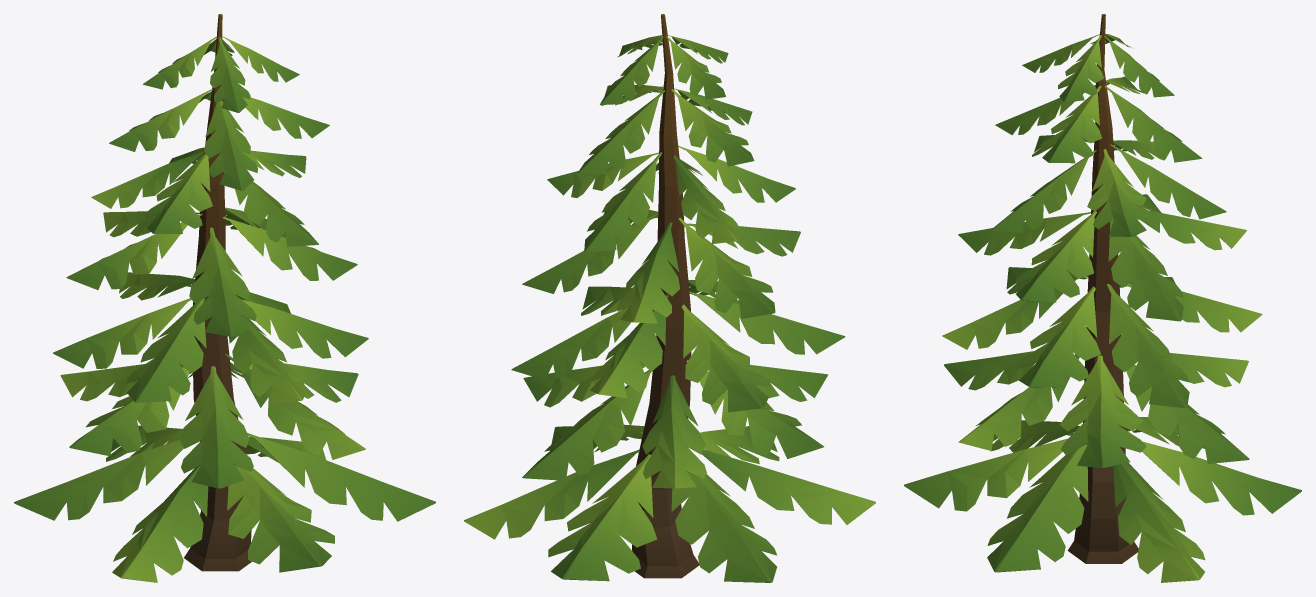
The model's file is Tree_10.fbx.
3 renders of one model, left to right at view 1: azimuth 30°, elevation 25°; view 2: azimuth 150°, elevation 25°; view 3: azimuth 270°, elevation 25°, orthographic. The views are drawn at different scales.
Parts seen in each view (by area): view 1: Tree_10; view 2: Tree_10; view 3: Tree_10.
Part boxes in pixels (x1=…): Tree_10: x1=14, y1=14, x2=435, y2=582; Tree_10: x1=464, y1=14, x2=875, y2=582; Tree_10: x1=904, y1=14, x2=1301, y2=582.
Size of the model in its own units: 3.53 by 5.76 by 3.88.
